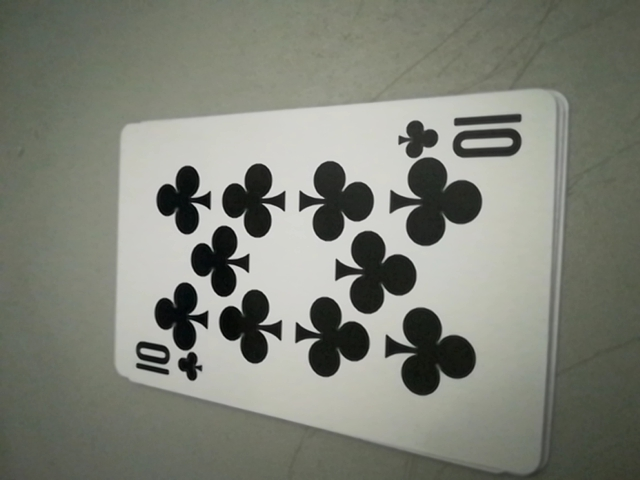mh 10: (395, 106, 535, 163), (128, 342, 208, 389)
